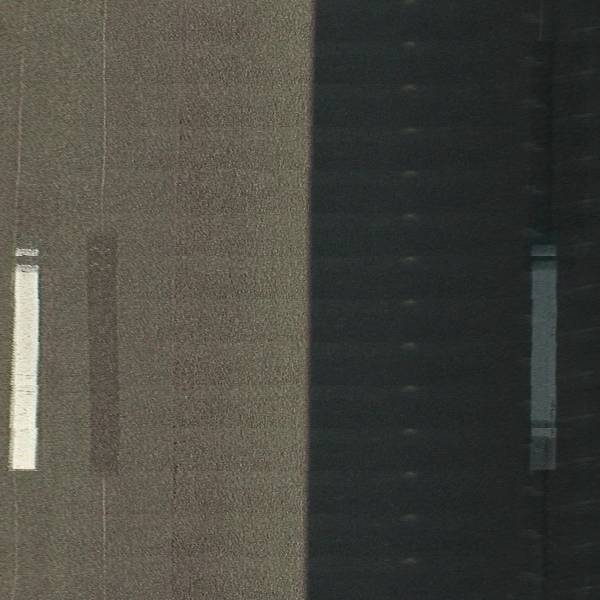road_damage: (167, 460, 183, 600)
